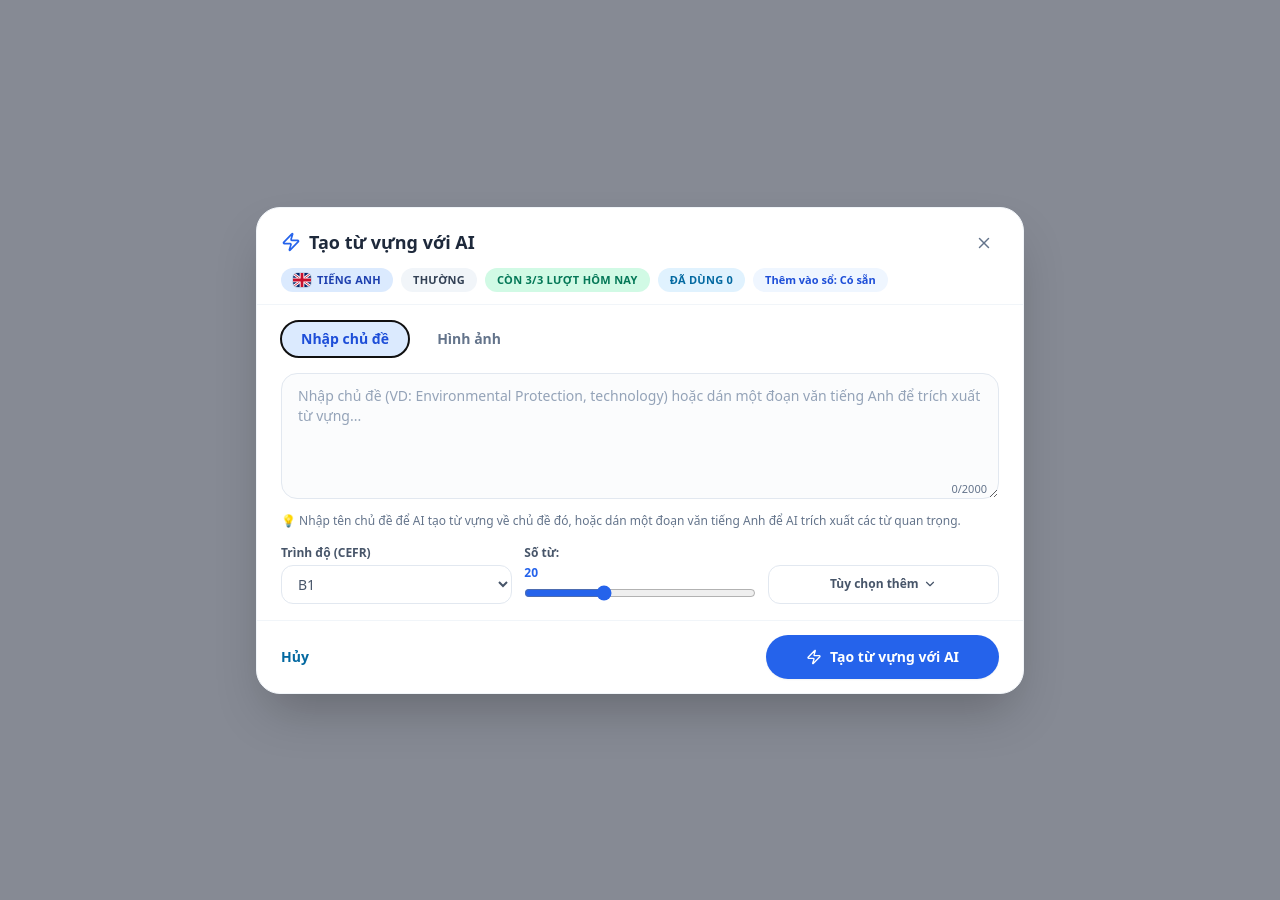
GenerateVocabModal › adding to an existing deck skips the title field and sends deckId
The width and height of the screenshot is (1280, 900).
Expected: the text "Thêm vào sổ: Có sẵn" is shown, left=753, top=268, right=888, bottom=292
Replace the text in the text box with placeholder "Nhập chủ đề" with "Environment". click: {"x": 640, "y": 436}
box: left=281, top=372, right=999, bottom=498
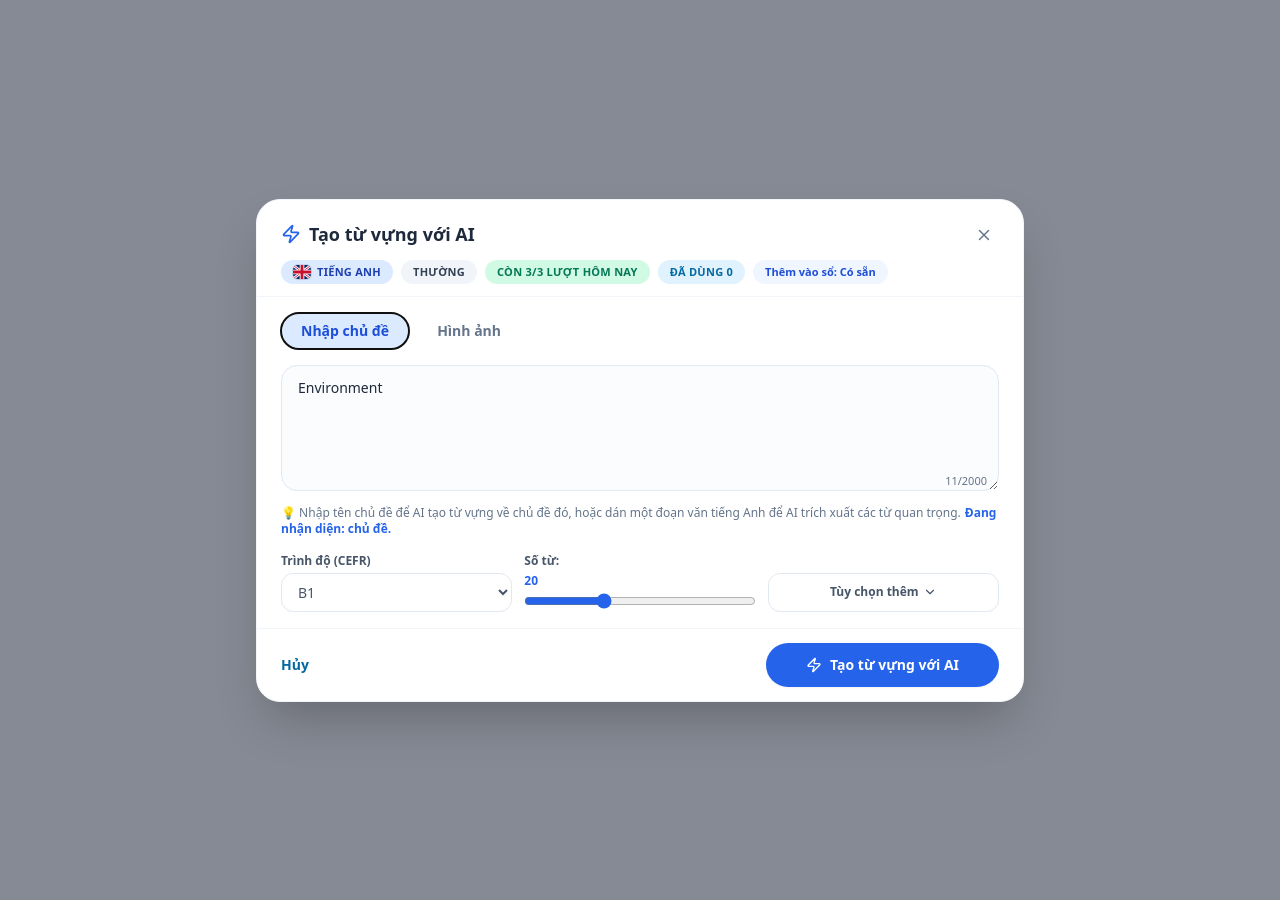
Click the button "Tạo từ vựng với AI". click: {"x": 883, "y": 664}
box: left=766, top=642, right=999, bottom=686
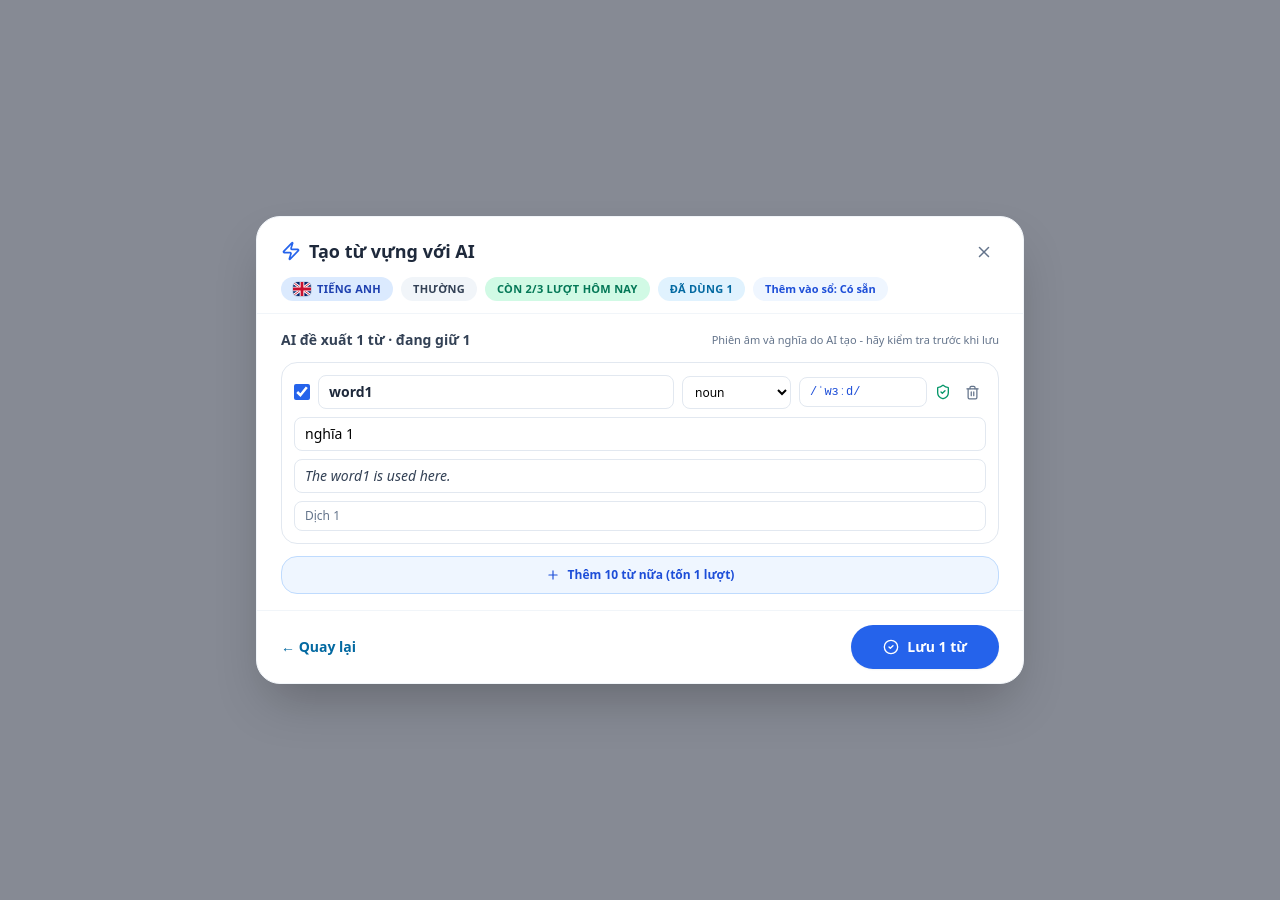
Now the field showing "word1" is shown, box left=318, top=375, right=674, bottom=409
Click the button "Lưu 1 từ". click: {"x": 925, "y": 647}
box: left=851, top=625, right=999, bottom=669
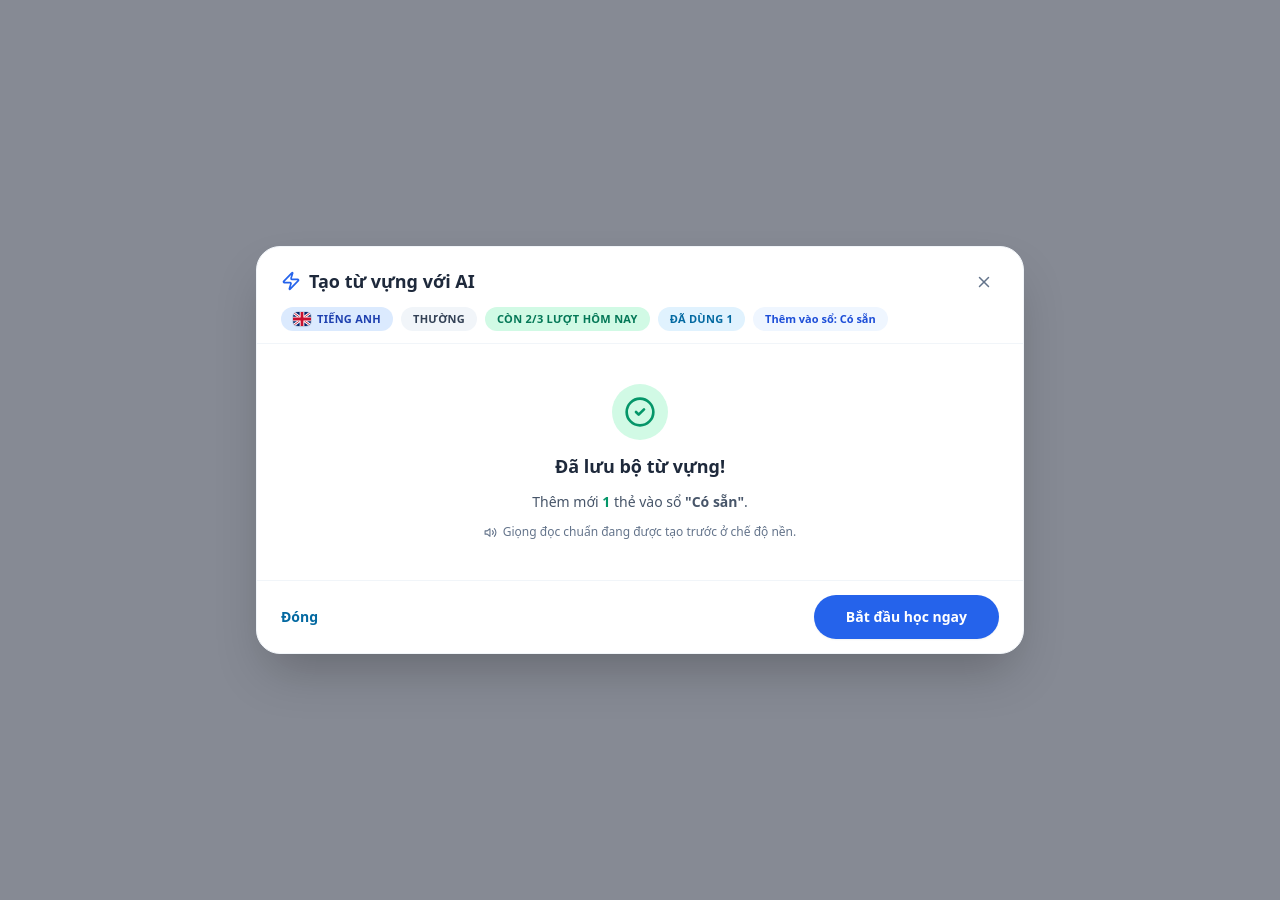
Now the heading "Đã lưu bộ từ vựng!" is shown, box left=555, top=452, right=725, bottom=480
